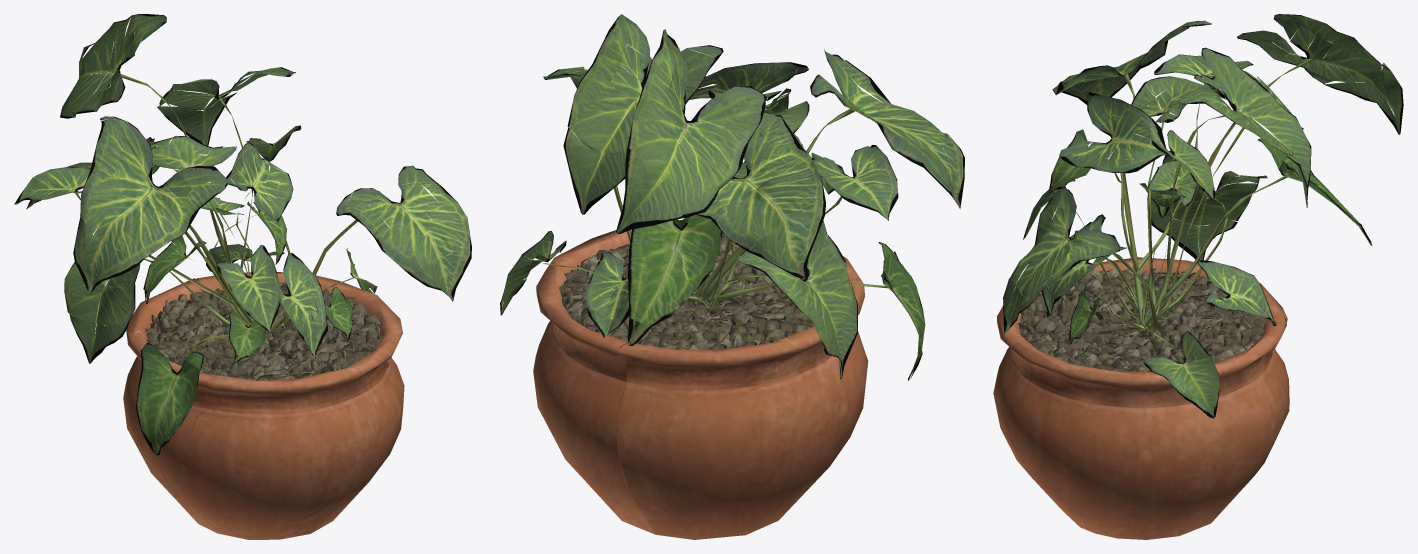
The model's file is ph_potted_plant_02.glb.
3 renders of one model, left to right at view 1: azimuth 30°, elevation 25°; view 2: azimuth 150°, elevation 25°; view 3: azimuth 270°, elevation 25°, orthographic. The views are drawn at different scales.
Visible parts, largest first — view 1: potted_plant_02_pot; view 2: potted_plant_02_pot; view 3: potted_plant_02_pot.
Part boxes in pixels (box(x1,y1,x2,y2)): potted_plant_02_pot: box(14, 14, 471, 539); potted_plant_02_pot: box(500, 14, 964, 539); potted_plant_02_pot: box(993, 14, 1403, 539).
Size of the model in its own units: 0.7008 by 0.8423 by 0.6581.
2 materials, 2 textured.
